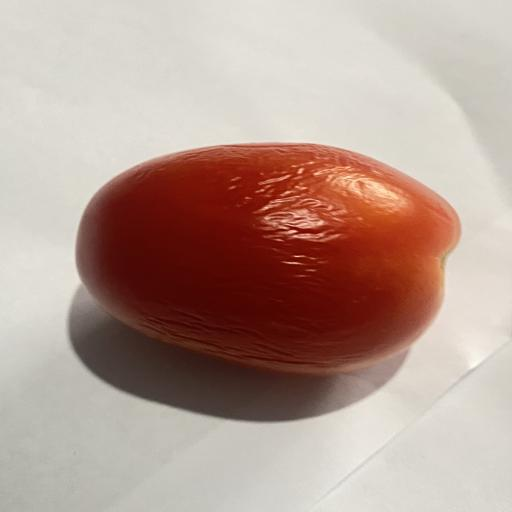spoiled: (76, 143, 460, 375)
